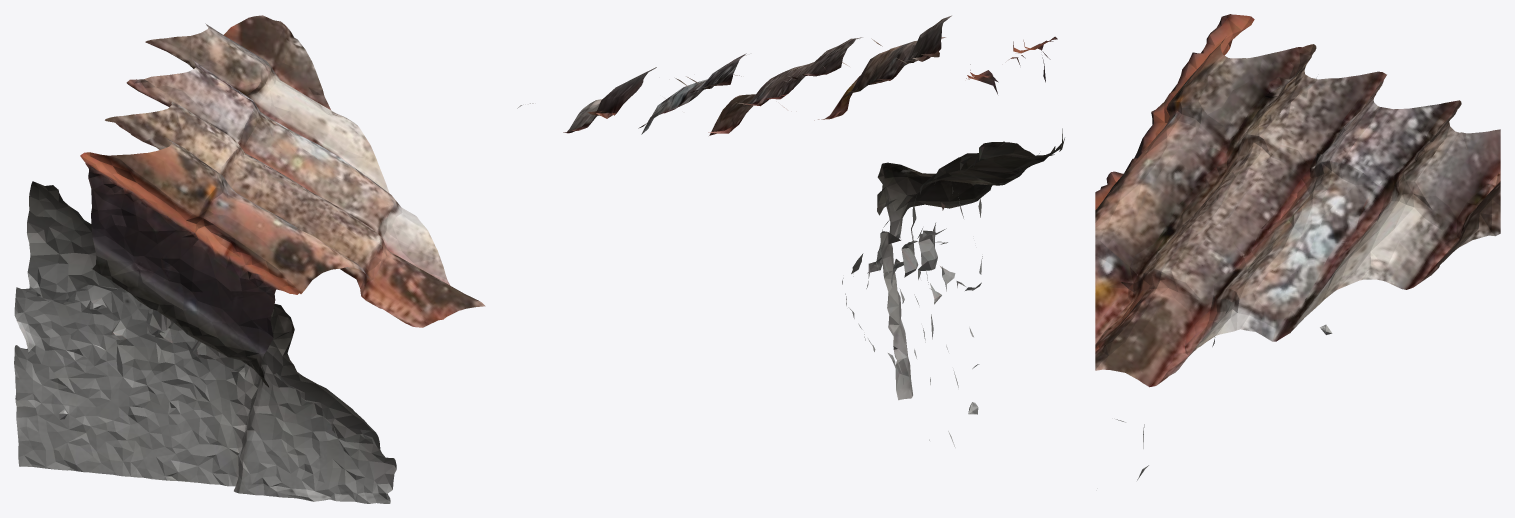
3 views of the same model, side by side, from view 1: azimuth 30°, elevation 25°; view 2: azimuth 150°, elevation 25°; view 3: azimuth 270°, elevation 25° (orthographic). The views are drawn at different scales.
Size of the model in its own units: 0.8374 by 0.8374 by 0.8373.
4 materials, 4 textured.
